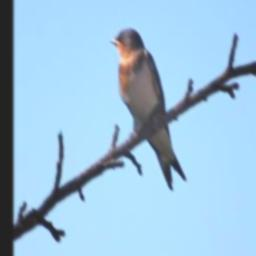Swallow: (110, 27, 186, 190)
